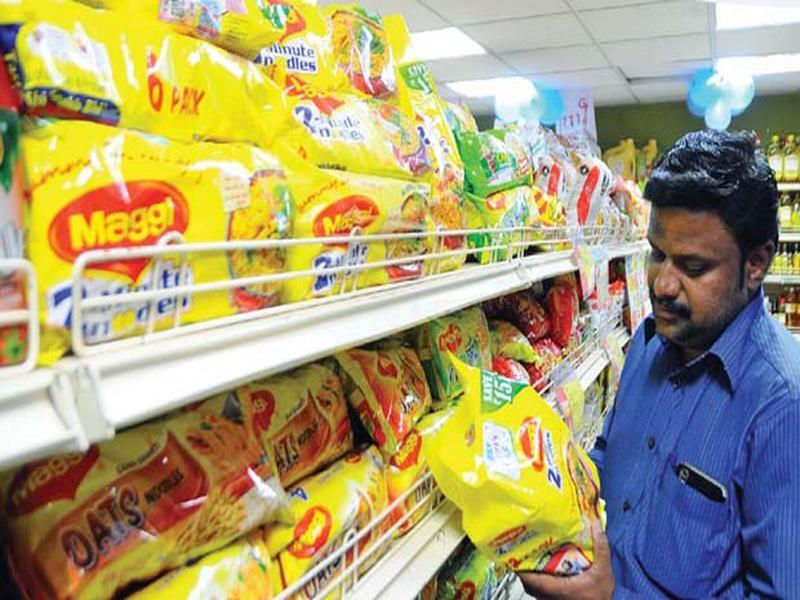maggi-family: (23, 125, 290, 312), (286, 156, 437, 288)
